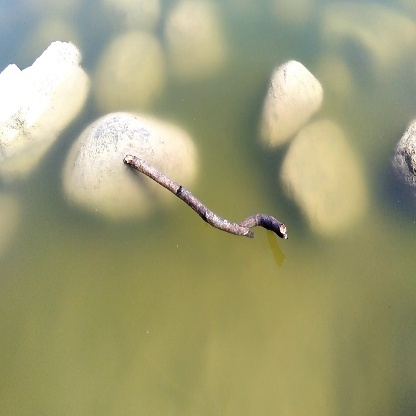branch: (126, 149, 294, 254)
